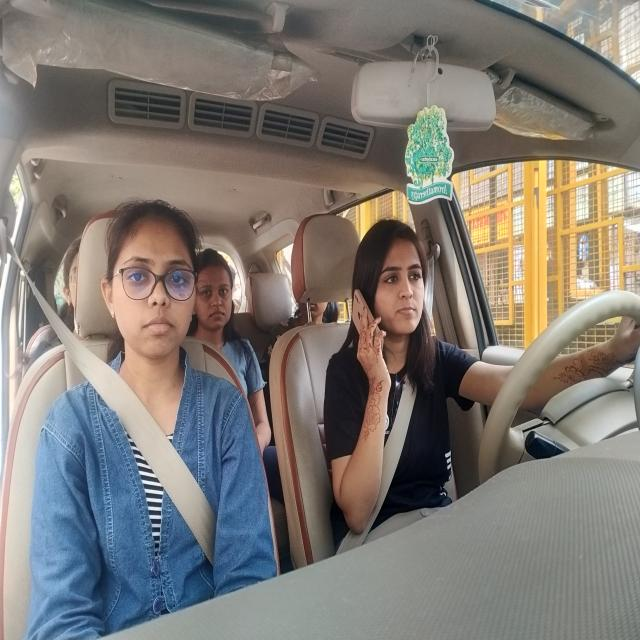mobile: (341, 305, 389, 360)
person: (105, 190, 199, 352), (352, 213, 438, 336), (191, 248, 239, 330), (62, 235, 84, 333), (295, 301, 338, 323)
